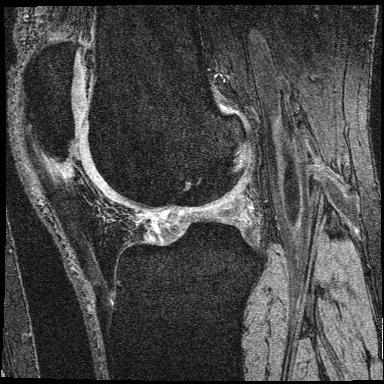SagKneeJointArea: (23, 40, 267, 308)
